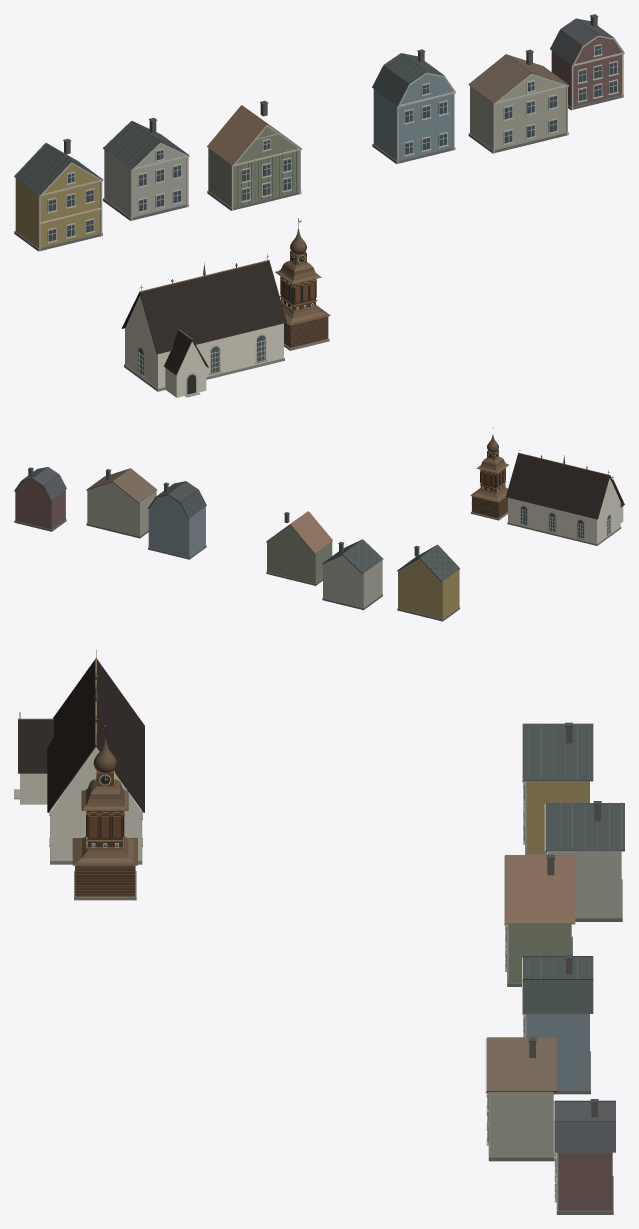
Rendered from bredbyn.glb.
3 views of the same model, one above another, from view 1: azimuth 30°, elevation 25°; view 2: azimuth 150°, elevation 25°; view 3: azimuth 270°, elevation 25° (orthographic). The views are drawn at different scales.
Visible parts, largest first — view 1: street-west, street-east, anundsjo-church, anundsjo-bell-tower; view 2: street-west, street-east, anundsjo-church, anundsjo-bell-tower; view 3: street-east, street-west, anundsjo-church, anundsjo-bell-tower.
Boxes of the visible parts, <box> form: street-west: <box>14,100,301,251</box>; street-east: <box>372,14,624,163</box>; anundsjo-church: <box>122,254,286,397</box>; anundsjo-bell-tower: <box>275,218,330,350</box>; street-west: <box>266,511,460,621</box>; street-east: <box>14,467,206,559</box>; anundsjo-church: <box>506,450,624,545</box>; anundsjo-bell-tower: <box>470,428,509,520</box>; street-east: <box>485,955,615,1214</box>; street-west: <box>504,722,624,986</box>; anundsjo-church: <box>14,650,144,864</box>; anundsjo-bell-tower: <box>72,723,137,900</box>.
Bounding box in the file's own units: 114 × 20 × 67.45.
